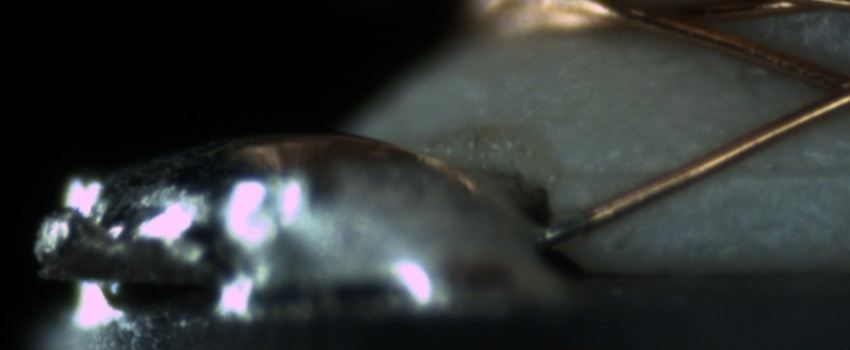CL: (796, 44, 849, 128)
DL: (596, 139, 849, 203)
TS: (539, 214, 587, 243)
TTCW: (539, 197, 617, 245)
